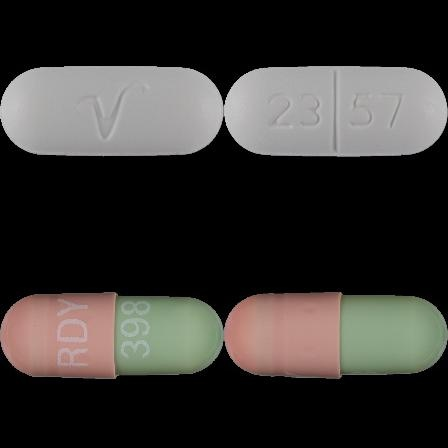42254-323: (0, 0, 224, 224)
